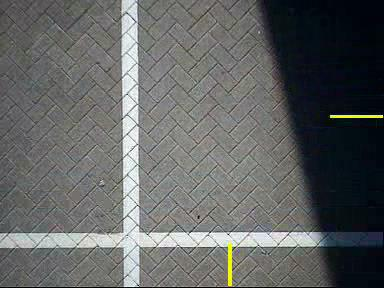groundmarker_2: (137, 170, 196, 214)
